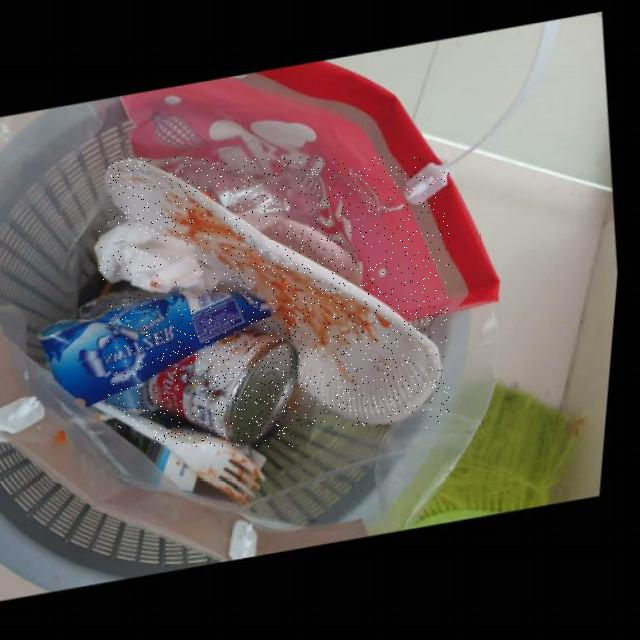metal: (154, 334, 304, 447)
paper: (108, 158, 449, 428), (99, 224, 226, 295)
